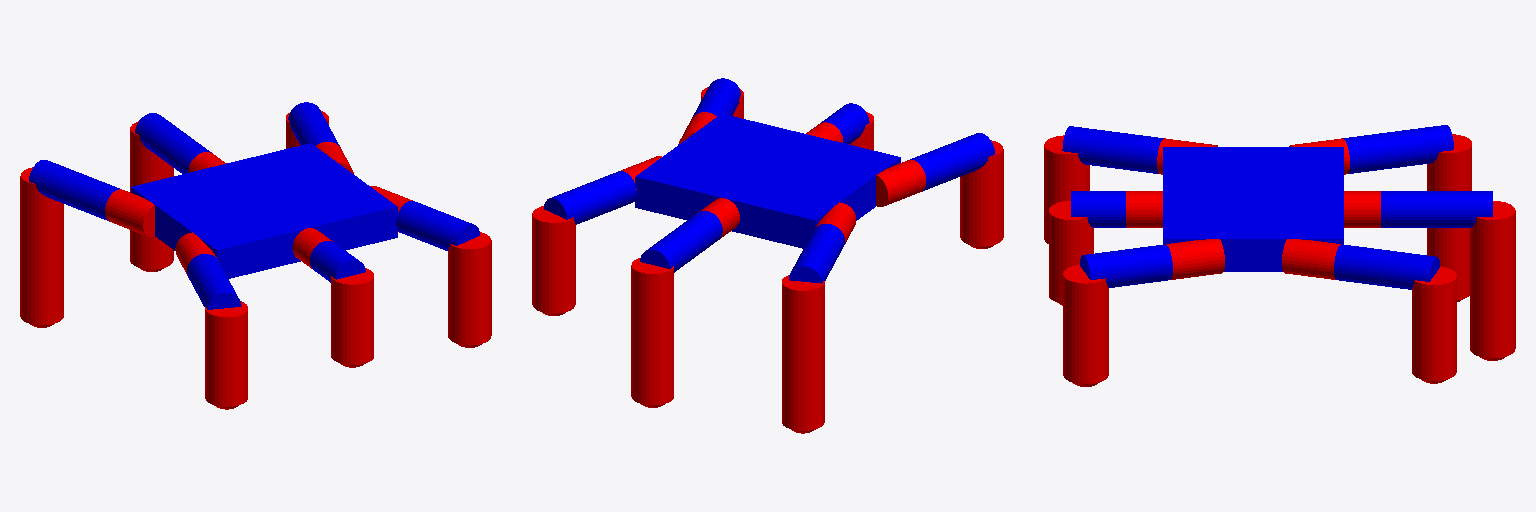
--- Facts derived from the render (not from the file) ---
3 views of the same robot in one strip: view 1: azimuth 30°, elevation 25°; view 2: azimuth 150°, elevation 25°; view 3: azimuth 270°, elevation 25° (orthographic).
Model pexod with 19 links and 18 joints (18 revolute), rooted at base_link, posed every joint at zero.
Visible links, largest first — view 1: base_link, leg_0_3, leg_3_3, leg_5_3, leg_4_3, leg_1_3, leg_0_2, leg_3_2, leg_1_2, leg_5_2, leg_0_1, leg_4_2 (+3 smaller); view 2: base_link, leg_0_3, leg_1_3, leg_2_3, leg_5_3, leg_2_2, leg_1_2, leg_5_2, leg_0_2, leg_5_1, leg_3_2, leg_4_2 (+2 smaller); view 3: base_link, leg_1_3, leg_3_3, leg_2_3, leg_1_2, leg_0_3, leg_0_2, leg_2_2, leg_5_2, leg_3_2, leg_4_3, leg_5_3 (+5 smaller).
Boxes of the visible links, x1=… form: base_link: x1=131, y1=143, x2=397, y2=278; leg_0_3: x1=20, y1=167, x2=63, y2=327; leg_3_3: x1=448, y1=232, x2=491, y2=347; leg_5_3: x1=205, y1=301, x2=247, y2=409; leg_4_3: x1=331, y1=268, x2=373, y2=367; leg_1_3: x1=130, y1=121, x2=173, y2=271; leg_0_2: x1=29, y1=160, x2=119, y2=221; leg_3_2: x1=396, y1=201, x2=479, y2=250; leg_1_2: x1=135, y1=113, x2=211, y2=173; leg_5_2: x1=187, y1=254, x2=241, y2=309; leg_0_1: x1=105, y1=189, x2=154, y2=236; leg_4_2: x1=310, y1=241, x2=365, y2=282; base_link: x1=635, y1=114, x2=900, y2=248; leg_0_3: x1=782, y1=275, x2=824, y2=433; leg_1_3: x1=631, y1=258, x2=673, y2=407; leg_2_3: x1=532, y1=206, x2=575, y2=315; leg_5_3: x1=960, y1=140, x2=1003, y2=248; leg_2_2: x1=544, y1=171, x2=636, y2=224; leg_1_2: x1=640, y1=211, x2=722, y2=272; leg_5_2: x1=910, y1=133, x2=994, y2=191; leg_0_2: x1=789, y1=224, x2=844, y2=283; leg_5_1: x1=876, y1=160, x2=925, y2=206; leg_3_2: x1=692, y1=78, x2=740, y2=117; leg_4_2: x1=821, y1=103, x2=869, y2=143; base_link: x1=1163, y1=147, x2=1343, y2=271; leg_1_3: x1=1470, y1=201, x2=1515, y2=360; leg_3_3: x1=1063, y1=265, x2=1108, y2=386; leg_2_3: x1=1412, y1=266, x2=1456, y2=383; leg_1_2: x1=1381, y1=191, x2=1492, y2=227; leg_0_3: x1=1427, y1=134, x2=1471, y2=301; leg_0_2: x1=1343, y1=125, x2=1453, y2=173; leg_2_2: x1=1334, y1=244, x2=1439, y2=289; leg_5_2: x1=1062, y1=126, x2=1163, y2=173; leg_3_2: x1=1080, y1=244, x2=1172, y2=287; leg_4_3: x1=1049, y1=201, x2=1093, y2=305; leg_5_3: x1=1044, y1=135, x2=1089, y2=243.
Bounding box of the posed robot: 0.3931 × 0.5178 × 0.2118 m (x, y, z).
Geometry: primitives only (box / cylinder / sphere), no mesh files.

The robot description file, URDF, robot "pexod":
<?xml version="1.0" ?>
<!-- =================================================================================== -->
<!-- |    This document was autogenerated by xacro from pexod.xacro                    | -->
<!-- |    EDITING THIS FILE BY HAND IS NOT RECOMMENDED                                 | -->
<!-- =================================================================================== -->
<robot name="pexod" xmlns:xacro="http://www.ros.org/wiki/xacro">
  <!-- <xacro:include filename="$(find pexod_description)/urdf/pexod_control.xacro" /> -->
  <!-- MATERIALS -->
  <material name="Blue">
    <color rgba="0 0 1 1"/>
  </material>
  <material name="Red">
    <color rgba="1 0 0 1"/>
  </material>
  <material name="Green">
    <color rgba="0 1 0 1"/>
  </material>
  <material name="Yellow">
    <color rgba="1 1 0 1"/>
  </material>
  <material name="LightGrey">
    <color rgba="0.6 0.6 0.6 1.0"/>
  </material>
  <!-- END OF MATERIALS -->
  <!-- XACRO MACROS FOR VISUALS AND COLLISIONS -->
  <!-- END OF XACRO MACROS -->
  <!-- TORSO -->
  <link name="base_link">
    <visual>
      <origin rpy="0 0 0" xyz="0 0 0"/>
      <geometry>
        <box size="0.24 0.2 0.04"/>
      </geometry>
      <material name="Blue"/>
    </visual>
    <collision>
      <origin rpy="0 0 0" xyz="0 0 0"/>
      <geometry>
        <box size="0.24 0.2 0.04"/>
      </geometry>
    </collision>
    <inertial>
      <!-- CENTER OF MASS -->
      <origin rpy="0 0 0" xyz="0 0 0"/>
      <mass value="1.031"/>
      <!-- box inertia: 1/12*m(y^2+z^2), ... -->
      <inertia ixx="0.00357413333333" ixy="0" ixz="0" iyy="0.00508626666667" iyz="0" izz="0.00838546666667"/>
    </inertial>
  </link>
  <!-- XACRO MACRO FOR LEGS LINKS/JOINTS -->
  <!-- END OF LEG LINKS/JOINTS -->
  <joint name="body_leg_2" type="revolute">
    <parent link="base_link"/>
    <child link="leg_2_1"/>
    <limit effort="30.0" lower="-1.57079632679" upper="1.57079632679" velocity="7.0"/>
    <origin rpy="0 0 -0.3" xyz="0.11 0.04 0"/>
    <!-- <xacro:if value="${index == 5 or index == 4 or index == 3}">
                <axis xyz="0 0 1"/>
            </xacro:if>
            <xacro:if value="${index == 2 or index == 1 or index == 0}"> -->
    <axis xyz="0 0 1"/>
    <!-- </xacro:if> -->
    <dynamics damping="0.0"/>
  </joint>
  <link name="leg_2_1">
    <visual>
      <origin rpy="1.57079632679 0 0" xyz="0.01 0.03 0"/>
      <geometry>
        <cylinder length="0.06" radius="0.02"/>
      </geometry>
      <material name="Red"/>
    </visual>
    <collision>
      <origin rpy="1.57079632679 0 0" xyz="0.01 0.03 0"/>
      <geometry>
        <box size="0.02 0.02 0.06"/>
      </geometry>
    </collision>
    <inertial>
      <!-- CENTER OF MASS -->
      <origin rpy="1.57079632679 0 0" xyz="0.01 0.03 0"/>
      <mass value="0.02"/>
      <!-- box inertia: 1/12*m(y^2+z^2), ... -->
      <inertia ixx="6.66666666667e-06" ixy="0" ixz="0" iyy="6.66666666667e-06" iyz="0" izz="1.33333333333e-06"/>
    </inertial>
  </link>
  <joint name="leg_2_1_2" type="revolute">
    <parent link="leg_2_1"/>
    <child link="leg_2_2"/>
    <limit effort="30.0" lower="-0.78539816339" upper="0.78539816339" velocity="7.0"/>
    <origin rpy="0 0 0" xyz="0 0.06 0"/>
    <axis xyz="1 0 0"/>
    <dynamics damping="0.0"/>
  </joint>
  <link name="leg_2_2">
    <visual>
      <origin rpy="1.57079632679 0 0" xyz="0.01 0.0549402780355 0"/>
      <geometry>
        <cylinder length="0.109880556071" radius="0.02"/>
      </geometry>
      <material name="Blue"/>
    </visual>
    <collision>
      <origin rpy="1.57079632679 0 0" xyz="0.01 0.0549402780355 0"/>
      <geometry>
        <box size="0.02 0.02 0.109880556071"/>
      </geometry>
    </collision>
    <inertial>
      <!-- CENTER OF MASS -->
      <origin rpy="1.57079632679 0 0" xyz="0.01 0.0549402780355 0"/>
      <mass value="0.184"/>
      <!-- box inertia: 1/12*m(y^2+z^2), ... -->
      <inertia ixx="0.000191263961238" ixy="0" ixz="0" iyy="0.000191263961238" iyz="0" izz="1.22666666667e-05"/>
    </inertial>
  </link>
  <joint name="leg_2_2_3" type="revolute">
    <parent link="leg_2_2"/>
    <child link="leg_2_3"/>
    <limit effort="30.0" lower="-0.78539816339" upper="0.78539816339" velocity="7.0"/>
    <origin rpy="-1.57079632679 0 0" xyz="0 0.109880556071 0"/>
    <axis xyz="-1 0 0"/>
    <dynamics damping="0.0"/>
  </joint>
  <link name="leg_2_3">
    <visual>
      <origin rpy="1.57079632679 0 0" xyz="0.0125 0.0581321698165 0"/>
      <geometry>
        <cylinder length="0.116264339633" radius="0.025"/>
      </geometry>
      <material name="Red"/>
    </visual>
    <visual>
      <origin rpy="1.57079632679 0 0" xyz="0.0125 0.103764339633 0"/>
      <geometry>
        <sphere radius="0.025"/>
      </geometry>
      <material name="Red"/>
    </visual>
    <collision>
      <origin rpy="1.57079632679 0 0" xyz="0.0125 0.0581321698165 0"/>
      <geometry>
        <box size="0.025 0.025 0.116264339633"/>
      </geometry>
    </collision>
    <collision>
      <origin rpy="1.57079632679 0 0" xyz="0.0125 0.103764339633 0"/>
      <geometry>
        <sphere radius="0.025"/>
      </geometry>
      <material name="Red"/>
    </collision>
    <inertial>
      <!-- CENTER OF MASS -->
      <origin rpy="1.57079632679 0 0" xyz="0.0125 0.0581321698165 0"/>
      <mass value="0.04"/>
      <!-- box inertia: 1/12*m(y^2+z^2), ... -->
      <inertia ixx="4.71413222343e-05" ixy="0" ixz="0" iyy="4.71413222343e-05" iyz="0" izz="4.16666666667e-06"/>
    </inertial>
  </link>
  <joint name="body_leg_3" type="revolute">
    <parent link="base_link"/>
    <child link="leg_3_1"/>
    <limit effort="30.0" lower="-1.57079632679" upper="1.57079632679" velocity="7.0"/>
    <origin rpy="0 0 0.3" xyz="0.11 -0.04 0"/>
    <!-- <xacro:if value="${index == 5 or index == 4 or index == 3}">
                <axis xyz="0 0 1"/>
            </xacro:if>
            <xacro:if value="${index == 2 or index == 1 or index == 0}"> -->
    <axis xyz="0 0 1"/>
    <!-- </xacro:if> -->
    <dynamics damping="0.0"/>
  </joint>
  <link name="leg_3_1">
    <visual>
      <origin rpy="1.57079632679 0 0" xyz="0.01 -0.03 0"/>
      <geometry>
        <cylinder length="0.06" radius="0.02"/>
      </geometry>
      <material name="Red"/>
    </visual>
    <collision>
      <origin rpy="1.57079632679 0 0" xyz="0.01 -0.03 0"/>
      <geometry>
        <box size="0.02 0.02 0.06"/>
      </geometry>
    </collision>
    <inertial>
      <!-- CENTER OF MASS -->
      <origin rpy="1.57079632679 0 0" xyz="0.01 -0.03 0"/>
      <mass value="0.02"/>
      <!-- box inertia: 1/12*m(y^2+z^2), ... -->
      <inertia ixx="6.66666666667e-06" ixy="0" ixz="0" iyy="6.66666666667e-06" iyz="0" izz="1.33333333333e-06"/>
    </inertial>
  </link>
  <joint name="leg_3_1_2" type="revolute">
    <parent link="leg_3_1"/>
    <child link="leg_3_2"/>
    <limit effort="30.0" lower="-0.78539816339" upper="0.78539816339" velocity="7.0"/>
    <origin rpy="0 0 0" xyz="0 -0.06 0"/>
    <axis xyz="-1 0 0"/>
    <dynamics damping="0.0"/>
  </joint>
  <link name="leg_3_2">
    <visual>
      <origin rpy="1.57079632679 0 0" xyz="0.01 -0.0474388793756 0"/>
      <geometry>
        <cylinder length="0.0948777587512" radius="0.02"/>
      </geometry>
      <material name="Blue"/>
    </visual>
    <collision>
      <origin rpy="1.57079632679 0 0" xyz="0.01 -0.0474388793756 0"/>
      <geometry>
        <box size="0.02 0.02 0.0948777587512"/>
      </geometry>
    </collision>
    <inertial>
      <!-- CENTER OF MASS -->
      <origin rpy="1.57079632679 0 0" xyz="0.01 -0.0474388793756 0"/>
      <mass value="0.184"/>
      <!-- box inertia: 1/12*m(y^2+z^2), ... -->
      <inertia ixx="0.000144160766287" ixy="0" ixz="0" iyy="0.000144160766287" iyz="0" izz="1.22666666667e-05"/>
    </inertial>
  </link>
  <joint name="leg_3_2_3" type="revolute">
    <parent link="leg_3_2"/>
    <child link="leg_3_3"/>
    <limit effort="30.0" lower="-0.78539816339" upper="0.78539816339" velocity="7.0"/>
    <origin rpy="1.57079632679 0 0" xyz="0 -0.0948777587512 0"/>
    <axis xyz="1 0 0"/>
    <dynamics damping="0.0"/>
  </joint>
  <link name="leg_3_3">
    <visual>
      <origin rpy="1.57079632679 0 0" xyz="0.0125 -0.0612178104145 0"/>
      <geometry>
        <cylinder length="0.122435620829" radius="0.025"/>
      </geometry>
      <material name="Red"/>
    </visual>
    <visual>
      <origin rpy="1.57079632679 0 0" xyz="0.0125 -0.109935620829 0"/>
      <geometry>
        <sphere radius="0.025"/>
      </geometry>
      <material name="Red"/>
    </visual>
    <collision>
      <origin rpy="1.57079632679 0 0" xyz="0.0125 -0.0612178104145 0"/>
      <geometry>
        <box size="0.025 0.025 0.122435620829"/>
      </geometry>
    </collision>
    <collision>
      <origin rpy="1.57079632679 0 0" xyz="0.0125 -0.109935620829 0"/>
      <geometry>
        <sphere radius="0.025"/>
      </geometry>
      <material name="Red"/>
    </collision>
    <inertial>
      <!-- CENTER OF MASS -->
      <origin rpy="1.57079632679 0 0" xyz="0.0125 -0.0612178104145 0"/>
      <mass value="0.04"/>
      <!-- box inertia: 1/12*m(y^2+z^2), ... -->
      <inertia ixx="5.20516041593e-05" ixy="0" ixz="0" iyy="5.20516041593e-05" iyz="0" izz="4.16666666667e-06"/>
    </inertial>
  </link>
  <joint name="body_leg_0" type="revolute">
    <parent link="base_link"/>
    <child link="leg_0_1"/>
    <limit effort="30.0" lower="-1.57079632679" upper="1.57079632679" velocity="7.0"/>
    <origin rpy="0 0 0.3" xyz="-0.13 0.04 0"/>
    <!-- <xacro:if value="${index == 5 or index == 4 or index == 3}">
                <axis xyz="0 0 1"/>
            </xacro:if>
            <xacro:if value="${index == 2 or index == 1 or index == 0}"> -->
    <axis xyz="0 0 1"/>
    <!-- </xacro:if> -->
    <dynamics damping="0.0"/>
  </joint>
  <link name="leg_0_1">
    <visual>
      <origin rpy="1.57079632679 0 0" xyz="0.01 0.03 0"/>
      <geometry>
        <cylinder length="0.06" radius="0.02"/>
      </geometry>
      <material name="Red"/>
    </visual>
    <collision>
      <origin rpy="1.57079632679 0 0" xyz="0.01 0.03 0"/>
      <geometry>
        <box size="0.02 0.02 0.06"/>
      </geometry>
    </collision>
    <inertial>
      <!-- CENTER OF MASS -->
      <origin rpy="1.57079632679 0 0" xyz="0.01 0.03 0"/>
      <mass value="0.02"/>
      <!-- box inertia: 1/12*m(y^2+z^2), ... -->
      <inertia ixx="6.66666666667e-06" ixy="0" ixz="0" iyy="6.66666666667e-06" iyz="0" izz="1.33333333333e-06"/>
    </inertial>
  </link>
  <joint name="leg_0_1_2" type="revolute">
    <parent link="leg_0_1"/>
    <child link="leg_0_2"/>
    <limit effort="30.0" lower="-0.78539816339" upper="0.78539816339" velocity="7.0"/>
    <origin rpy="0 0 0" xyz="0 0.06 0"/>
    <axis xyz="1 0 0"/>
    <dynamics damping="0.0"/>
  </joint>
  <link name="leg_0_2">
    <visual>
      <origin rpy="1.57079632679 0 0" xyz="0.01 0.059897229419 0"/>
      <geometry>
        <cylinder length="0.119794458838" radius="0.02"/>
      </geometry>
      <material name="Blue"/>
    </visual>
    <collision>
      <origin rpy="1.57079632679 0 0" xyz="0.01 0.059897229419 0"/>
      <geometry>
        <box size="0.02 0.02 0.119794458838"/>
      </geometry>
    </collision>
    <inertial>
      <!-- CENTER OF MASS -->
      <origin rpy="1.57079632679 0 0" xyz="0.01 0.059897229419 0"/>
      <mass value="0.184"/>
      <!-- box inertia: 1/12*m(y^2+z^2), ... -->
      <inertia ixx="0.000226177589647" ixy="0" ixz="0" iyy="0.000226177589647" iyz="0" izz="1.22666666667e-05"/>
    </inertial>
  </link>
  <joint name="leg_0_2_3" type="revolute">
    <parent link="leg_0_2"/>
    <child link="leg_0_3"/>
    <limit effort="30.0" lower="-0.78539816339" upper="0.78539816339" velocity="7.0"/>
    <origin rpy="-1.57079632679 0 0" xyz="0 0.119794458838 0"/>
    <axis xyz="-1 0 0"/>
    <dynamics damping="0.0"/>
  </joint>
  <link name="leg_0_3">
    <visual>
      <origin rpy="1.57079632679 0 0" xyz="0.0125 0.0896365092545 0"/>
      <geometry>
        <cylinder length="0.179273018509" radius="0.025"/>
      </geometry>
      <material name="Red"/>
    </visual>
    <visual>
      <origin rpy="1.57079632679 0 0" xyz="0.0125 0.166773018509 0"/>
      <geometry>
        <sphere radius="0.025"/>
      </geometry>
      <material name="Red"/>
    </visual>
    <collision>
      <origin rpy="1.57079632679 0 0" xyz="0.0125 0.0896365092545 0"/>
      <geometry>
        <box size="0.025 0.025 0.179273018509"/>
      </geometry>
    </collision>
    <collision>
      <origin rpy="1.57079632679 0 0" xyz="0.0125 0.166773018509 0"/>
      <geometry>
        <sphere radius="0.025"/>
      </geometry>
      <material name="Red"/>
    </collision>
    <inertial>
      <!-- CENTER OF MASS -->
      <origin rpy="1.57079632679 0 0" xyz="0.0125 0.0896365092545 0"/>
      <mass value="0.04"/>
      <!-- box inertia: 1/12*m(y^2+z^2), ... -->
      <inertia ixx="0.000109212717218" ixy="0" ixz="0" iyy="0.000109212717218" iyz="0" izz="4.16666666667e-06"/>
    </inertial>
  </link>
  <joint name="body_leg_5" type="revolute">
    <parent link="base_link"/>
    <child link="leg_5_1"/>
    <limit effort="30.0" lower="-1.57079632679" upper="1.57079632679" velocity="7.0"/>
    <origin rpy="0 0 -0.3" xyz="-0.13 -0.04 0"/>
    <!-- <xacro:if value="${index == 5 or index == 4 or index == 3}">
                <axis xyz="0 0 1"/>
            </xacro:if>
            <xacro:if value="${index == 2 or index == 1 or index == 0}"> -->
    <axis xyz="0 0 1"/>
    <!-- </xacro:if> -->
    <dynamics damping="0.0"/>
  </joint>
  <link name="leg_5_1">
    <visual>
      <origin rpy="1.57079632679 0 0" xyz="0.01 -0.03 0"/>
      <geometry>
        <cylinder length="0.06" radius="0.02"/>
      </geometry>
      <material name="Red"/>
    </visual>
    <collision>
      <origin rpy="1.57079632679 0 0" xyz="0.01 -0.03 0"/>
      <geometry>
        <box size="0.02 0.02 0.06"/>
      </geometry>
    </collision>
    <inertial>
      <!-- CENTER OF MASS -->
      <origin rpy="1.57079632679 0 0" xyz="0.01 -0.03 0"/>
      <mass value="0.02"/>
      <!-- box inertia: 1/12*m(y^2+z^2), ... -->
      <inertia ixx="6.66666666667e-06" ixy="0" ixz="0" iyy="6.66666666667e-06" iyz="0" izz="1.33333333333e-06"/>
    </inertial>
  </link>
  <joint name="leg_5_1_2" type="revolute">
    <parent link="leg_5_1"/>
    <child link="leg_5_2"/>
    <limit effort="30.0" lower="-0.78539816339" upper="0.78539816339" velocity="7.0"/>
    <origin rpy="0 0 0" xyz="0 -0.06 0"/>
    <axis xyz="-1 0 0"/>
    <dynamics damping="0.0"/>
  </joint>
  <link name="leg_5_2">
    <visual>
      <origin rpy="1.57079632679 0 0" xyz="0.01 -0.0543659931475 0"/>
      <geometry>
        <cylinder length="0.108731986295" radius="0.02"/>
      </geometry>
      <material name="Blue"/>
    </visual>
    <collision>
      <origin rpy="1.57079632679 0 0" xyz="0.01 -0.0543659931475 0"/>
      <geometry>
        <box size="0.02 0.02 0.108731986295"/>
      </geometry>
    </collision>
    <inertial>
      <!-- CENTER OF MASS -->
      <origin rpy="1.57079632679 0 0" xyz="0.01 -0.0543659931475 0"/>
      <mass value="0.184"/>
      <!-- box inertia: 1/12*m(y^2+z^2), ... -->
      <inertia ixx="0.000187413887603" ixy="0" ixz="0" iyy="0.000187413887603" iyz="0" izz="1.22666666667e-05"/>
    </inertial>
  </link>
  <joint name="leg_5_2_3" type="revolute">
    <parent link="leg_5_2"/>
    <child link="leg_5_3"/>
    <limit effort="30.0" lower="-0.78539816339" upper="0.78539816339" velocity="7.0"/>
    <origin rpy="1.57079632679 0 0" xyz="0 -0.108731986295 0"/>
    <axis xyz="1 0 0"/>
    <dynamics damping="0.0"/>
  </joint>
  <link name="leg_5_3">
    <visual>
      <origin rpy="1.57079632679 0 0" xyz="0.0125 -0.057014319219 0"/>
      <geometry>
        <cylinder length="0.114028638438" radius="0.025"/>
      </geometry>
      <material name="Red"/>
    </visual>
    <visual>
      <origin rpy="1.57079632679 0 0" xyz="0.0125 -0.101528638438 0"/>
      <geometry>
        <sphere radius="0.025"/>
      </geometry>
      <material name="Red"/>
    </visual>
    <collision>
      <origin rpy="1.57079632679 0 0" xyz="0.0125 -0.057014319219 0"/>
      <geometry>
        <box size="0.025 0.025 0.114028638438"/>
      </geometry>
    </collision>
    <collision>
      <origin rpy="1.57079632679 0 0" xyz="0.0125 -0.101528638438 0"/>
      <geometry>
        <sphere radius="0.025"/>
      </geometry>
      <material name="Red"/>
    </collision>
    <inertial>
      <!-- CENTER OF MASS -->
      <origin rpy="1.57079632679 0 0" xyz="0.0125 -0.057014319219 0"/>
      <mass value="0.04"/>
      <!-- box inertia: 1/12*m(y^2+z^2), ... -->
      <inertia ixx="4.54251012801e-05" ixy="0" ixz="0" iyy="4.54251012801e-05" iyz="0" izz="4.16666666667e-06"/>
    </inertial>
  </link>
  <joint name="body_leg_1" type="revolute">
    <parent link="base_link"/>
    <child link="leg_1_1"/>
    <limit effort="30.0" lower="-1.57079632679" upper="1.57079632679" velocity="7.0"/>
    <origin rpy="0 0 0" xyz="-0.01 0.08 0"/>
    <!-- <xacro:if value="${index == 5 or index == 4 or index == 3}">
                <axis xyz="0 0 1"/>
            </xacro:if>
            <xacro:if value="${index == 2 or index == 1 or index == 0}"> -->
    <axis xyz="0 0 1"/>
    <!-- </xacro:if> -->
    <dynamics damping="0.0"/>
  </joint>
  <link name="leg_1_1">
    <visual>
      <origin rpy="1.57079632679 0 0" xyz="0.01 0.03 0"/>
      <geometry>
        <cylinder length="0.06" radius="0.02"/>
      </geometry>
      <material name="Red"/>
    </visual>
    <collision>
      <origin rpy="1.57079632679 0 0" xyz="0.01 0.03 0"/>
      <geometry>
        <box size="0.02 0.02 0.06"/>
      </geometry>
    </collision>
    <inertial>
      <!-- CENTER OF MASS -->
      <origin rpy="1.57079632679 0 0" xyz="0.01 0.03 0"/>
      <mass value="0.02"/>
      <!-- box inertia: 1/12*m(y^2+z^2), ... -->
      <inertia ixx="6.66666666667e-06" ixy="0" ixz="0" iyy="6.66666666667e-06" iyz="0" izz="1.33333333333e-06"/>
    </inertial>
  </link>
  <joint name="leg_1_1_2" type="revolute">
    <parent link="leg_1_1"/>
    <child link="leg_1_2"/>
    <limit effort="30.0" lower="-0.78539816339" upper="0.78539816339" velocity="7.0"/>
    <origin rpy="0 0 0" xyz="0 0.06 0"/>
    <axis xyz="1 0 0"/>
    <dynamics damping="0.0"/>
  </joint>
  <link name="leg_1_2">
    <visual>
      <origin rpy="1.57079632679 0 0" xyz="0.01 0.061501161098 0"/>
      <geometry>
        <cylinder length="0.123002322196" radius="0.02"/>
      </geometry>
      <material name="Blue"/>
    </visual>
    <collision>
      <origin rpy="1.57079632679 0 0" xyz="0.01 0.061501161098 0"/>
      <geometry>
        <box size="0.02 0.02 0.123002322196"/>
      </geometry>
    </collision>
    <inertial>
      <!-- CENTER OF MASS -->
      <origin rpy="1.57079632679 0 0" xyz="0.01 0.061501161098 0"/>
      <mass value="0.184"/>
      <!-- box inertia: 1/12*m(y^2+z^2), ... -->
      <inertia ixx="0.000238120092739" ixy="0" ixz="0" iyy="0.000238120092739" iyz="0" izz="1.22666666667e-05"/>
    </inertial>
  </link>
  <joint name="leg_1_2_3" type="revolute">
    <parent link="leg_1_2"/>
    <child link="leg_1_3"/>
    <limit effort="30.0" lower="-0.78539816339" upper="0.78539816339" velocity="7.0"/>
    <origin rpy="-1.57079632679 0 0" xyz="0 0.123002322196 0"/>
    <axis xyz="-1 0 0"/>
    <dynamics damping="0.0"/>
  </joint>
  <link name="leg_1_3">
    <visual>
      <origin rpy="1.57079632679 0 0" xyz="0.0125 0.0839763814505 0"/>
      <geometry>
        <cylinder length="0.167952762901" radius="0.025"/>
      </geometry>
      <material name="Red"/>
    </visual>
    <visual>
      <origin rpy="1.57079632679 0 0" xyz="0.0125 0.155452762901 0"/>
      <geometry>
        <sphere radius="0.025"/>
      </geometry>
      <material name="Red"/>
    </visual>
    <collision>
      <origin rpy="1.57079632679 0 0" xyz="0.0125 0.0839763814505 0"/>
      <geometry>
        <box size="0.025 0.025 0.167952762901"/>
      </geometry>
    </collision>
    <collision>
      <origin rpy="1.57079632679 0 0" xyz="0.0125 0.155452762901 0"/>
      <geometry>
        <sphere radius="0.025"/>
      </geometry>
      <material name="Red"/>
    </collision>
    <inertial>
      <!-- CENTER OF MASS -->
      <origin rpy="1.57079632679 0 0" xyz="0.0125 0.0839763814505 0"/>
      <mass value="0.04"/>
      <!-- box inertia: 1/12*m(y^2+z^2), ... -->
      <inertia ixx="9.61104352203e-05" ixy="0" ixz="0" iyy="9.61104352203e-05" iyz="0" izz="4.16666666667e-06"/>
    </inertial>
  </link>
  <joint name="body_leg_4" type="revolute">
    <parent link="base_link"/>
    <child link="leg_4_1"/>
    <limit effort="30.0" lower="-1.57079632679" upper="1.57079632679" velocity="7.0"/>
    <origin rpy="0 0 0" xyz="-0.01 -0.08 0"/>
    <!-- <xacro:if value="${index == 5 or index == 4 or index == 3}">
                <axis xyz="0 0 1"/>
            </xacro:if>
            <xacro:if value="${index == 2 or index == 1 or index == 0}"> -->
    <axis xyz="0 0 1"/>
    <!-- </xacro:if> -->
    <dynamics damping="0.0"/>
  </joint>
  <link name="leg_4_1">
    <visual>
      <origin rpy="1.57079632679 0 0" xyz="0.01 -0.03 0"/>
      <geometry>
        <cylinder length="0.06" radius="0.02"/>
      </geometry>
      <material name="Red"/>
    </visual>
    <collision>
      <origin rpy="1.57079632679 0 0" xyz="0.01 -0.03 0"/>
      <geometry>
        <box size="0.02 0.02 0.06"/>
      </geometry>
    </collision>
    <inertial>
      <!-- CENTER OF MASS -->
      <origin rpy="1.57079632679 0 0" xyz="0.01 -0.03 0"/>
      <mass value="0.02"/>
      <!-- box inertia: 1/12*m(y^2+z^2), ... -->
      <inertia ixx="6.66666666667e-06" ixy="0" ixz="0" iyy="6.66666666667e-06" iyz="0" izz="1.33333333333e-06"/>
    </inertial>
  </link>
  <joint name="leg_4_1_2" type="revolute">
    <parent link="leg_4_1"/>
    <child link="leg_4_2"/>
    <limit effort="30.0" lower="-0.78539816339" upper="0.78539816339" velocity="7.0"/>
    <origin rpy="0 0 0" xyz="0 -0.06 0"/>
    <axis xyz="-1 0 0"/>
    <dynamics damping="0.0"/>
  </joint>
  <link name="leg_4_2">
    <visual>
      <origin rpy="1.57079632679 0 0" xyz="0.01 -0.0301791196376 0"/>
      <geometry>
        <cylinder length="0.0603582392753" radius="0.02"/>
      </geometry>
      <material name="Blue"/>
    </visual>
    <collision>
      <origin rpy="1.57079632679 0 0" xyz="0.01 -0.0301791196376 0"/>
      <geometry>
        <box size="0.02 0.02 0.0603582392753"/>
      </geometry>
    </collision>
    <inertial>
      <!-- CENTER OF MASS -->
      <origin rpy="1.57079632679 0 0" xyz="0.01 -0.0301791196376 0"/>
      <mass value="0.184"/>
      <!-- box inertia: 1/12*m(y^2+z^2), ... -->
      <inertia ixx="6.1994461409e-05" ixy="0" ixz="0" iyy="6.1994461409e-05" iyz="0" izz="1.22666666667e-05"/>
    </inertial>
  </link>
  <joint name="leg_4_2_3" type="revolute">
    <parent link="leg_4_2"/>
    <child link="leg_4_3"/>
    <limit effort="30.0" lower="-0.78539816339" upper="0.78539816339" velocity="7.0"/>
    <origin rpy="1.57079632679 0 0" xyz="0 -0.0603582392753 0"/>
    <axis xyz="1 0 0"/>
    <dynamics damping="0.0"/>
  </joint>
  <link name="leg_4_3">
    <visual>
      <origin rpy="1.57079632679 0 0" xyz="0.0125 -0.051206028208 0"/>
      <geometry>
        <cylinder length="0.102412056416" radius="0.025"/>
      </geometry>
      <material name="Red"/>
    </visual>
    <visual>
      <origin rpy="1.57079632679 0 0" xyz="0.0125 -0.089912056416 0"/>
      <geometry>
        <sphere radius="0.025"/>
      </geometry>
      <material name="Red"/>
    </visual>
    <collision>
      <origin rpy="1.57079632679 0 0" xyz="0.0125 -0.051206028208 0"/>
      <geometry>
        <box size="0.025 0.025 0.102412056416"/>
      </geometry>
    </collision>
    <collision>
      <origin rpy="1.57079632679 0 0" xyz="0.0125 -0.089912056416 0"/>
      <geometry>
        <sphere radius="0.025"/>
      </geometry>
      <material name="Red"/>
    </collision>
    <inertial>
      <!-- CENTER OF MASS -->
      <origin rpy="1.57079632679 0 0" xyz="0.0125 -0.051206028208 0"/>
      <mass value="0.04"/>
      <!-- box inertia: 1/12*m(y^2+z^2), ... -->
      <inertia ixx="3.70440976645e-05" ixy="0" ixz="0" iyy="3.70440976645e-05" iyz="0" izz="4.16666666667e-06"/>
    </inertial>
  </link>
  <!-- END OF LEG LINKS/JOINTS -->
</robot>
